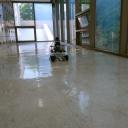cart: (49, 46, 69, 62)
